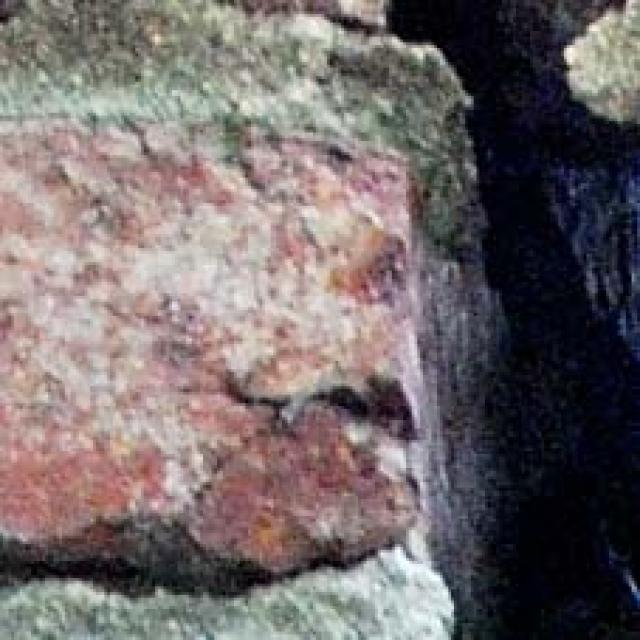Crack: (286, 0, 640, 640)
